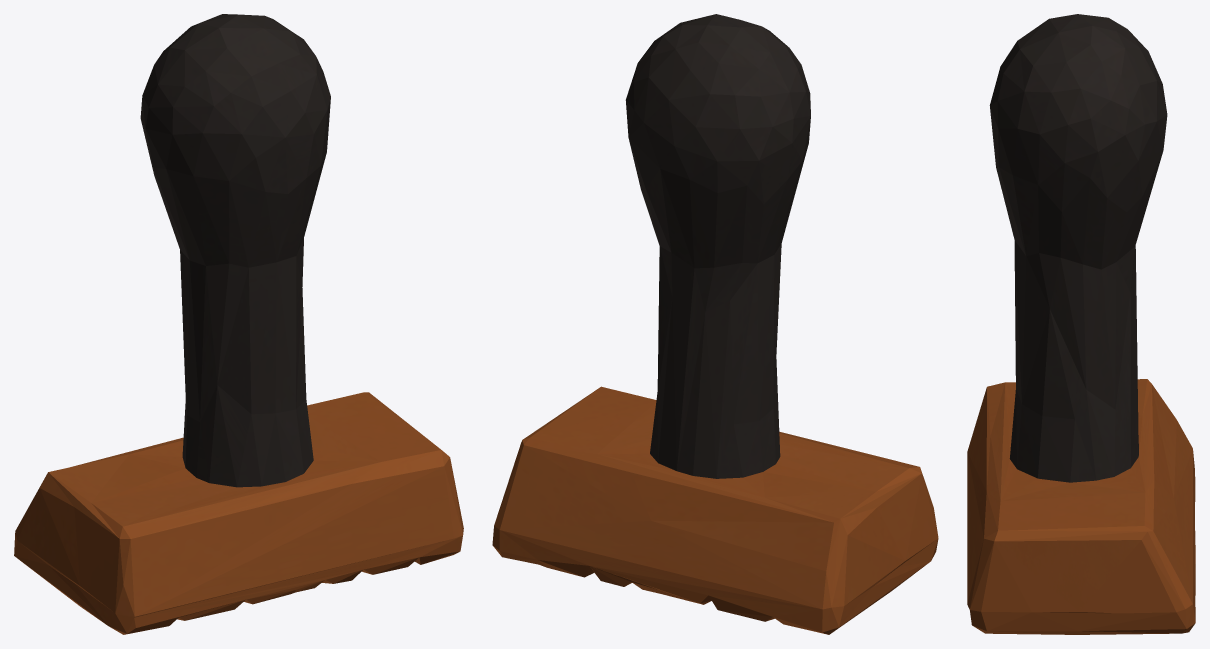
The model's file is stampThingie.fbx.
3 views of the same model, side by side, from view 1: azimuth 30°, elevation 25°; view 2: azimuth 150°, elevation 25°; view 3: azimuth 270°, elevation 25° (orthographic).
Parts seen in each view (by area): view 1: stampthingie; view 2: stampthingie; view 3: stampthingie.
Part boxes in pixels (x1,y1,x2,y2): stampthingie: (14,14,463,634); stampthingie: (492,14,938,634); stampthingie: (967,14,1195,634).
Size of the model in its own units: 170 by 250 by 97.43.
